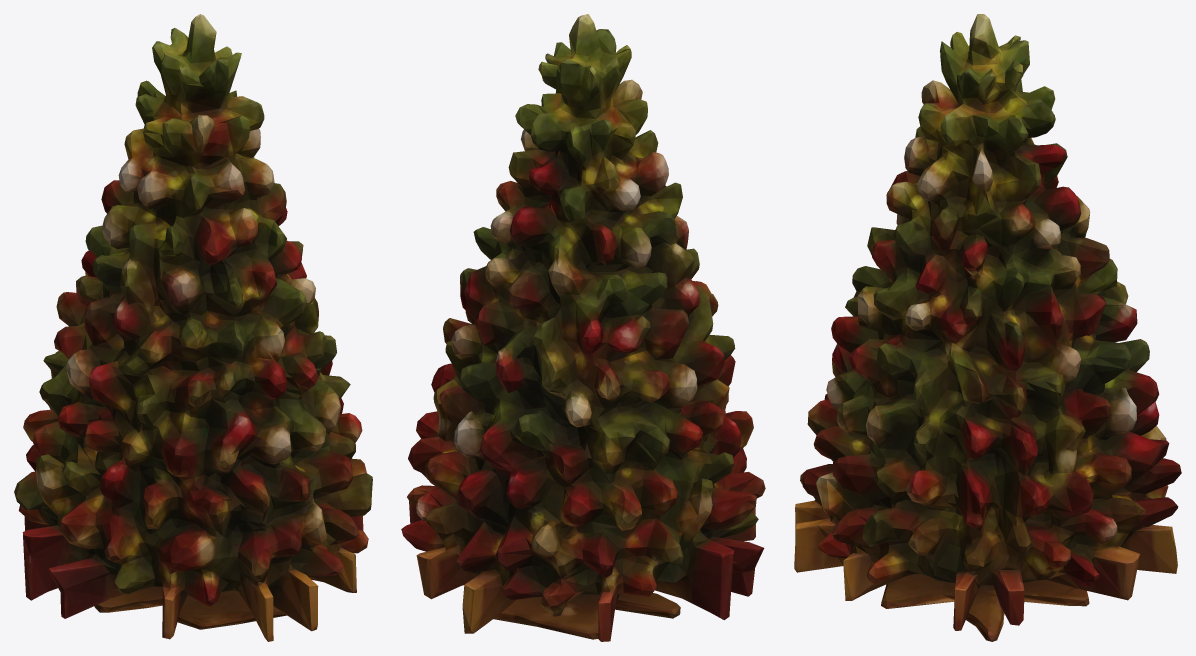
The picture shows the model from 3 angles, left to right: view 1: azimuth 30°, elevation 25°; view 2: azimuth 150°, elevation 25°; view 3: azimuth 270°, elevation 25°; orthographic projection.
Visible parts, largest first — view 1: geometry_0; view 2: geometry_0; view 3: geometry_0.
Boxes of the visible parts, x1,y1,x2,y2 form: geometry_0: (14,14,372,641); geometry_0: (401,14,765,641); geometry_0: (794,14,1181,641).
Size of the model in its own units: 0.5806 by 0.9992 by 0.614.
Materials: 1 (1 with a texture image).
